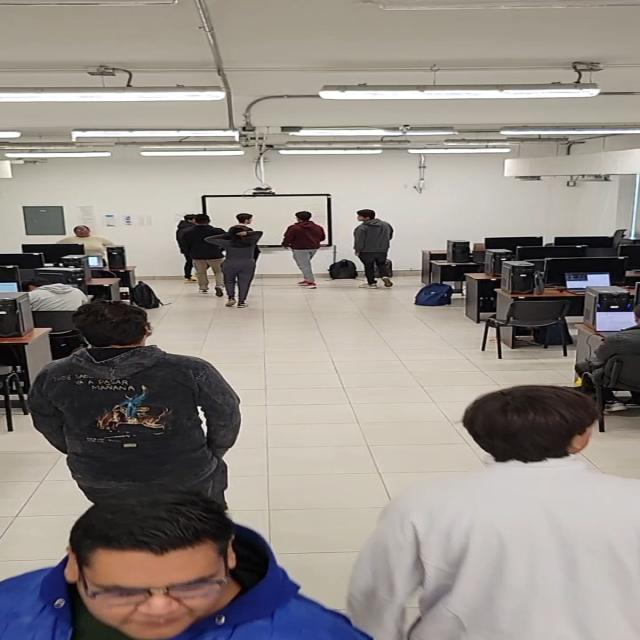Persona: (343, 383, 640, 639), (2, 481, 378, 640), (28, 300, 242, 524), (204, 225, 264, 308), (178, 213, 230, 297), (280, 210, 326, 288), (353, 209, 395, 289), (174, 213, 214, 284), (226, 213, 262, 262)
